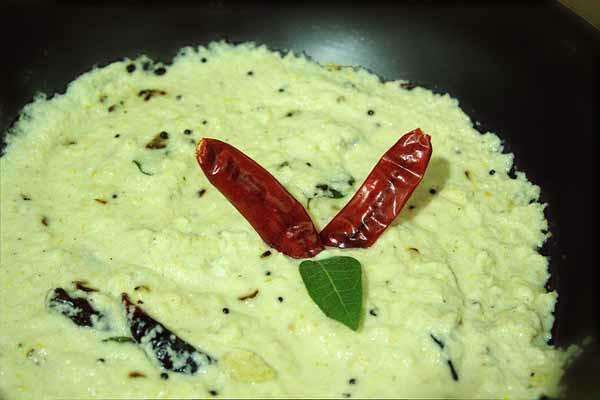CoconutChutney: (0, 39, 551, 400)
